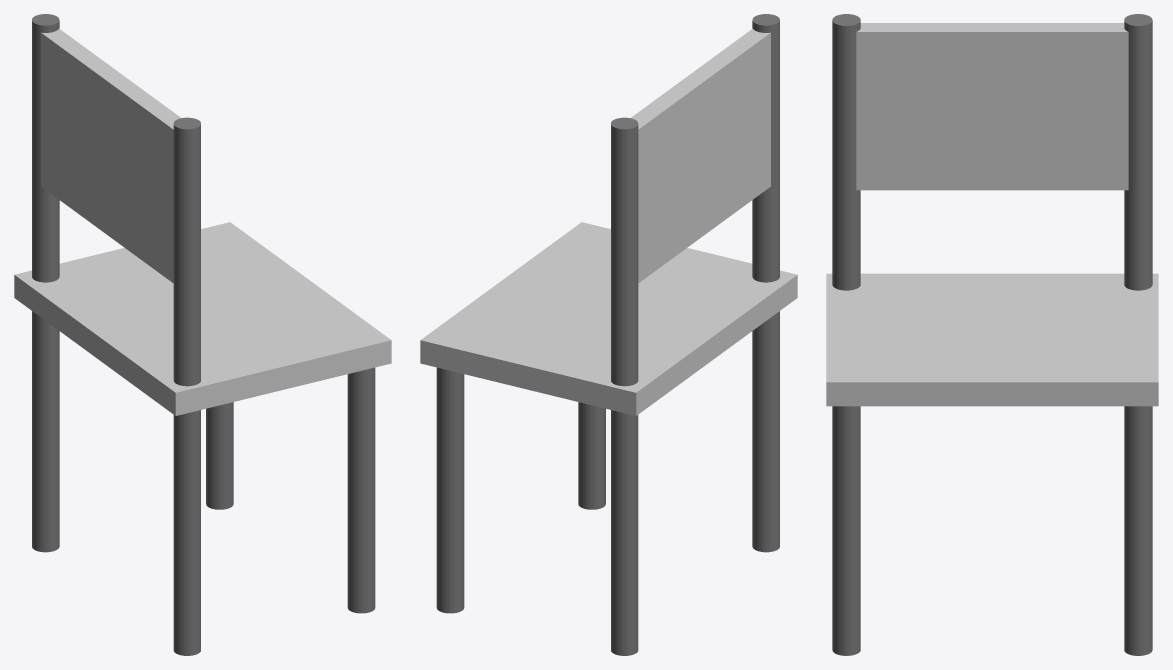
Rendered from Sedia.fbx.
3 views of the same model, side by side, from view 1: azimuth 30°, elevation 25°; view 2: azimuth 150°, elevation 25°; view 3: azimuth 270°, elevation 25° (orthographic). The views are drawn at different scales.
Parts seen in each view (by area): view 1: SediaSalotto; view 2: SediaSalotto; view 3: SediaSalotto.
Boxes of the visible parts, <box> form: SediaSalotto: <box>14,14,391,655</box>; SediaSalotto: <box>420,14,797,655</box>; SediaSalotto: <box>826,14,1158,655</box>.
Bounding box in the file's own units: 42.05 × 98.04 × 54.47.
